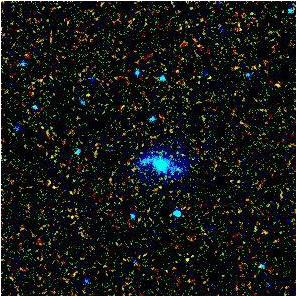star: (263, 73, 293, 103)
